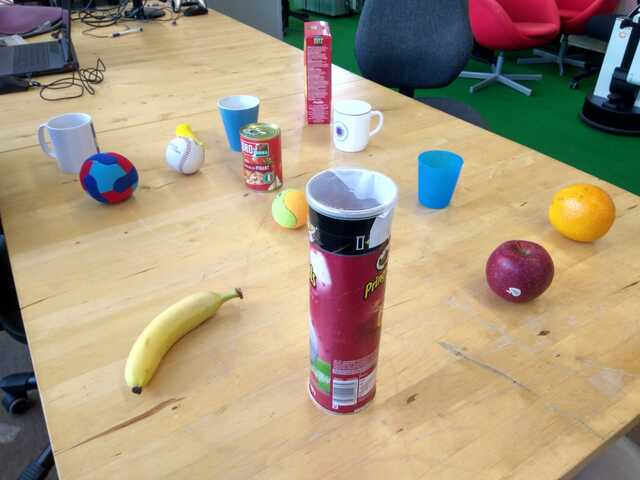001_chips_can: (305, 166, 399, 416)
003_cracker_box: (303, 20, 332, 124)
005_tomato_soup_can: (239, 121, 284, 193)
011_banana: (125, 285, 246, 393), (174, 121, 201, 147)
013_apple: (483, 238, 557, 305)
017_orange: (547, 182, 617, 244)
025_mug: (37, 112, 102, 172), (331, 98, 383, 152), (216, 94, 261, 152)
055_baseball: (164, 136, 207, 175)
056_tennis_ball: (271, 186, 310, 230)
057_racquetball: (79, 152, 139, 205)
